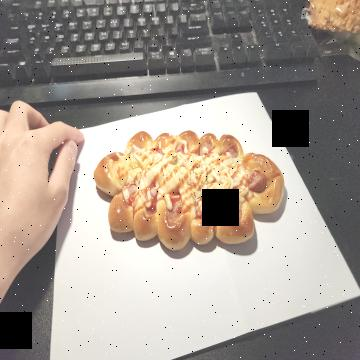pizza_bread: (92, 128, 287, 252)
